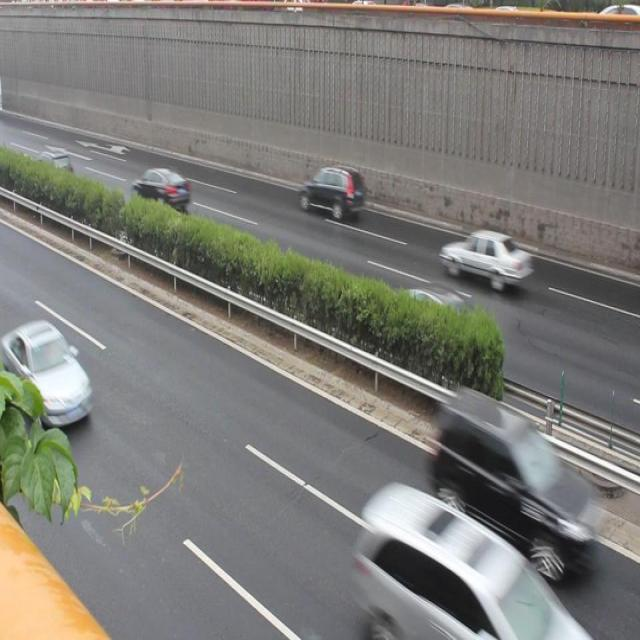car: (425, 389, 602, 567), (1, 324, 92, 442), (380, 272, 472, 357), (437, 223, 534, 302), (297, 163, 364, 219), (131, 162, 189, 214), (32, 142, 75, 192)
truck: (342, 480, 582, 640)
